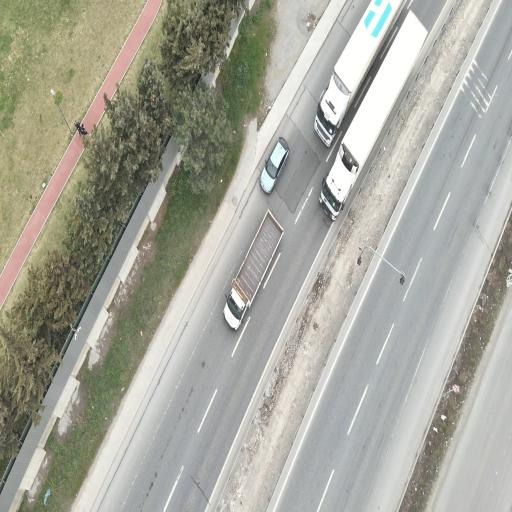car: (260, 138, 289, 193)
person: (74, 120, 81, 134), (81, 123, 87, 135)
truck: (320, 12, 426, 219), (314, 0, 404, 146), (224, 210, 283, 329)
